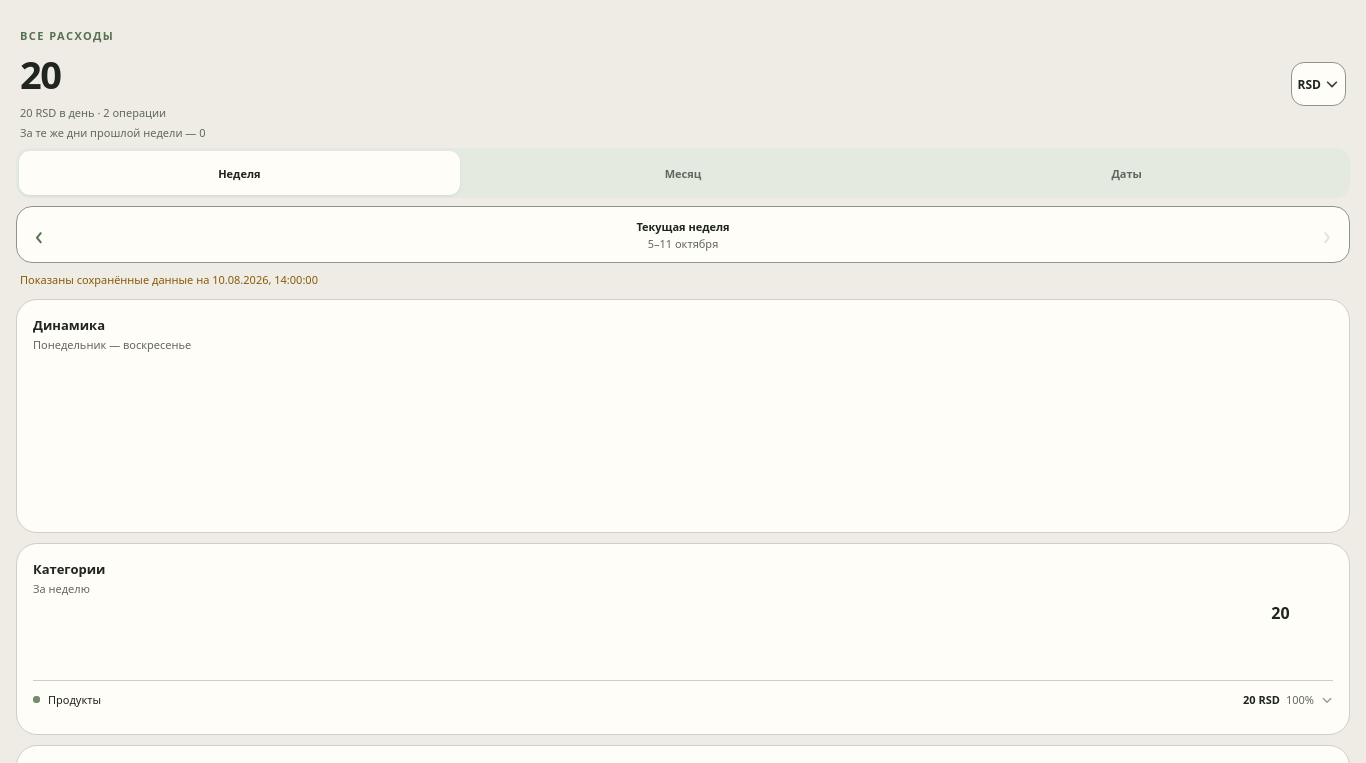
Test case: analytics legend › signs an unfolded expense with its tag, and falls back to the card statement name only without one
The width and height of the screenshot is (1366, 763).
Step 1. Click the button "Продукты 20 RSD 100%" → (75, 700), box [33,680,1333,718]
(page scrolled)
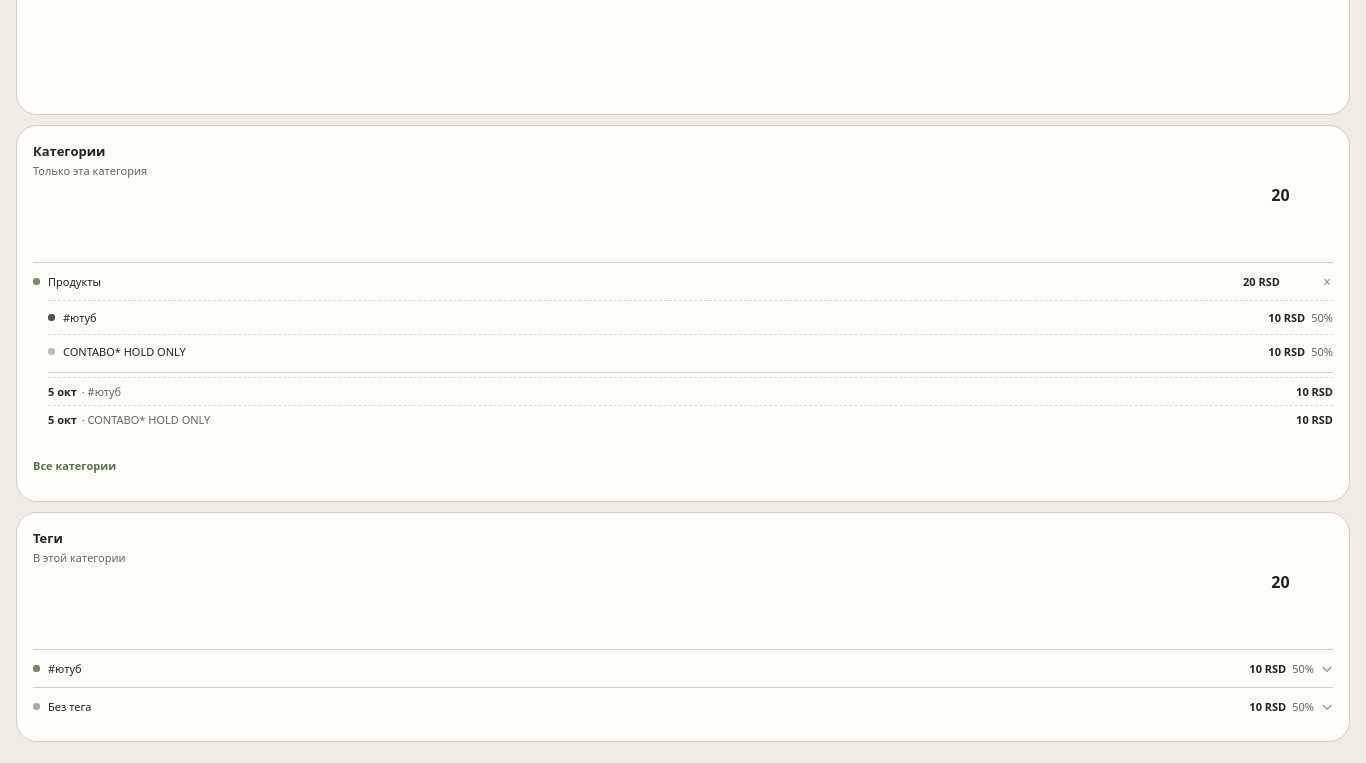
Expected: the element with class "legend-detail" shows "#ютуб", [79,384,121,399]
Expected: the element with class "legend-detail" shows "CONTABO* HOLD ONLY", [79,412,210,427]
